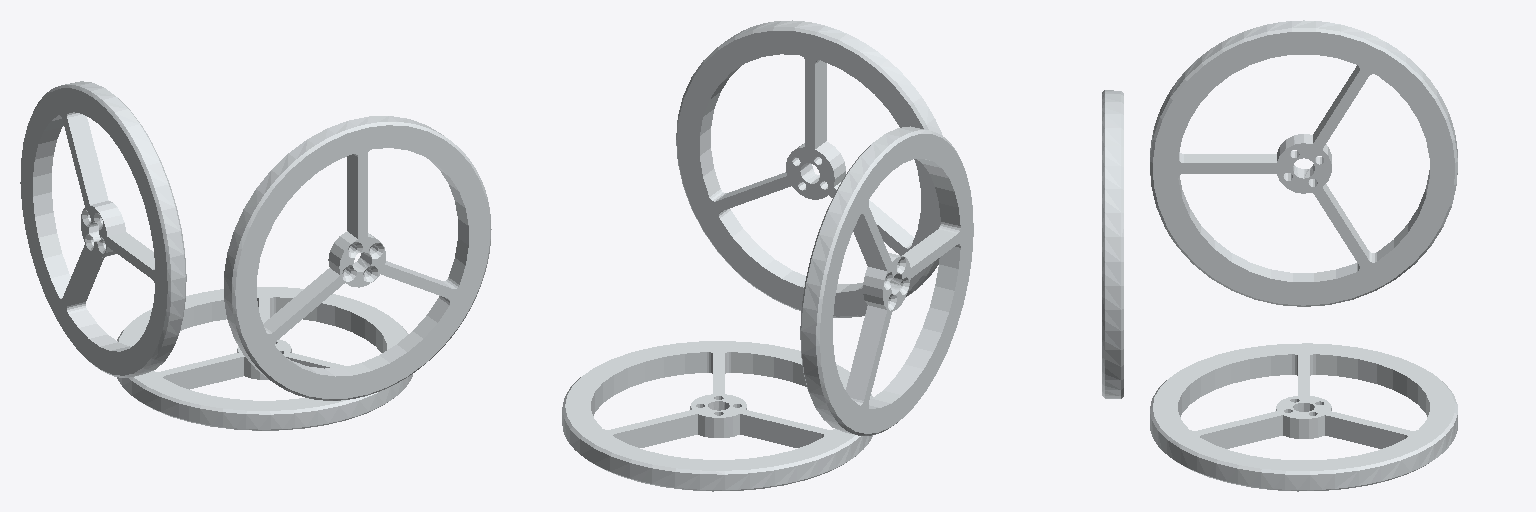
The robot description file, URDF, robot "cubli":
<?xml version="1.0" encoding="utf-8"?>
<!-- This URDF was automatically created by SolidWorks to URDF Exporter! Originally created by [author] ([email redacted]) 
     Commit Version: 1.6.0-4-g7f85cfe  Build Version: 1.6.7995.38578
     For more information, please see http://wiki.ros.org/sw_urdf_exporter -->
<robot
  name="cubli">
  <link
    name="base_link">
    <inertial>
      <origin
        xyz="0.075 0.075 0.075"
        rpy="0 0 0" />
      <mass
        value="0.83835176" />
      <inertia
        ixx="0.00361405"
        ixy="2.218E-05"
        ixz="2.361E-05"
        iyy="0.00361405"
        iyz="2.580E-05"
        izz="0.00361405" />
    </inertial>
    <visual>
      <origin
        xyz="0 0 0"
        rpy="0 0 0" />
      <geometry>
        <mesh
          filename="package://cubli/meshes/base_link.STL" />
      </geometry>
      <material
        name="">
        <color
          rgba="0.75294 0.75294 0.75294 1" />
      </material>
    </visual>
    <collision>
      <origin
        xyz="0 0 0"
        rpy="0 0 0" />
      <geometry>
        <mesh
          filename="package://cubli/meshes/base_link.STL" />
      </geometry>
    </collision>
  </link>
  <link
    name="wheel1">
    <inertial>
      <origin
        xyz="0.0040081 0 0"
        rpy="0 0 0" />
      <mass
        value="0.080877" />
      <inertia
        ixx="0.00017691"
        ixy="0"
        ixz="0"
        iyy="8.8879E-05"
        iyz="0"
        izz="8.8879E-05" />
    </inertial>
    <visual>
      <origin
        xyz="0 0 0"
        rpy="0 0 0" />
      <geometry>
        <mesh
          filename="package://cubli/meshes/wheel1.STL" />
      </geometry>
      <material
        name="wheel1">
        <color
          rgba="0.89804 0.91765 0.92941 1" />
      </material>
    </visual>
    <collision>
      <origin
        xyz="0 0 0"
        rpy="0 0 0" />
      <geometry>
        <mesh
          filename="package://cubli/meshes/wheel1.STL" />
      </geometry>
    </collision>
  </link>
  <joint
    name="wheel1_joint"
    type="continuous">
    <origin
      xyz="0.0079 0.08 0.08"
      rpy="0 0 0" />
    <parent
      link="base_link" />
    <child
      link="wheel1" />
    <axis
      xyz="1 0 0" />
    <limit
      effort="0.3"
      velocity="850" />
  </joint>
  <link
    name="wheel2">
    <inertial>
      <origin
        xyz="0 0.0040081 0"
        rpy="0 0 0" />
      <mass
        value="0.080877" />
      <inertia
        ixx="8.8879E-05"
        ixy="0"
        ixz="0"
        iyy="0.00017691"
        iyz="0"
        izz="8.8879E-05" />
    </inertial>
    <visual>
      <origin
        xyz="0 0 0"
        rpy="0 0 0" />
      <geometry>
        <mesh
          filename="package://cubli/meshes/wheel2.STL" />
      </geometry>
      <material
        name="wheel2">
        <color
          rgba="0.89804 0.91765 0.92941 1" />
      </material>
    </visual>
    <collision>
      <origin
        xyz="0 0 0"
        rpy="0 0 0" />
      <geometry>
        <mesh
          filename="package://cubli/meshes/wheel2.STL" />
      </geometry>
    </collision>
  </link>
  <joint
    name="wheel2_joint"
    type="continuous">
    <origin
      xyz="0.08 0.0079 0.08"
      rpy="0 0 0" />
    <parent
      link="base_link" />
    <child
      link="wheel2" />
    <axis
      xyz="0 1 0" />
    <limit
      effort="0.3"
      velocity="850" />
  </joint>
  <link
    name="wheel3">
    <inertial>
      <origin
        xyz="0 0 0.0040081"
        rpy="0 0 0" />
      <mass
        value="0.080877" />
      <inertia
        ixx="8.8879E-05"
        ixy="0"
        ixz="0"
        iyy="8.8879E-05"
        iyz="0"
        izz="0.00017691" />
    </inertial>
    <visual>
      <origin
        xyz="0 0 0"
        rpy="0 0 0" />
      <geometry>
        <mesh
          filename="package://cubli/meshes/wheel3.STL" />
      </geometry>
      <material
        name="">
        <color
          rgba="0.89804 0.91765 0.92941 1" />
      </material>
    </visual>
    <collision>
      <origin
        xyz="0 0 0"
        rpy="0 0 0" />
      <geometry>
        <mesh
          filename="package://cubli/meshes/wheel3.STL" />
      </geometry>
    </collision>
  </link>
  <joint
    name="wheel3_joint"
    type="continuous">
    <origin
      xyz="0.08 0.08 0.0079"
      rpy="0 0 0" />
    <parent
      link="base_link" />
    <child
      link="wheel3" />
    <axis
      xyz="0 0 1" />
    <limit
      effort="0.3"
      velocity="850" />
  </joint>
</robot>

--- What the picture shows (computed from the rendered views, not written in the file) ---
Views: 3 orthographic renders of the robot side by side, from view 1: azimuth 30°, elevation 25°; view 2: azimuth 150°, elevation 25°; view 3: azimuth 270°, elevation 25°.
Model cubli with 4 links and 3 joints (3 continuous), rooted at base_link, posed every joint at zero.
Links seen in each view (by area): view 1: wheel2, wheel1, wheel3; view 2: wheel1, wheel2, wheel3; view 3: wheel1, wheel3, wheel2.
Boxes of the visible links, box(x1,y1,x2,y2) form: wheel2: box(224, 116, 491, 400); wheel1: box(20, 81, 186, 377); wheel3: box(117, 287, 412, 430); wheel1: box(800, 126, 973, 435); wheel2: box(676, 20, 942, 317); wheel3: box(562, 341, 872, 491); wheel1: box(1150, 20, 1457, 306); wheel3: box(1150, 343, 1457, 491); wheel2: box(1102, 90, 1123, 398).
Bounding box of the posed robot: 0.1271 × 0.1271 × 0.1271 m (x, y, z).
Meshes: 4 distinct files referenced, 3 mesh visuals loaded (3 binary STL); not drawn: 1 (reference not matched to a file when rendering).